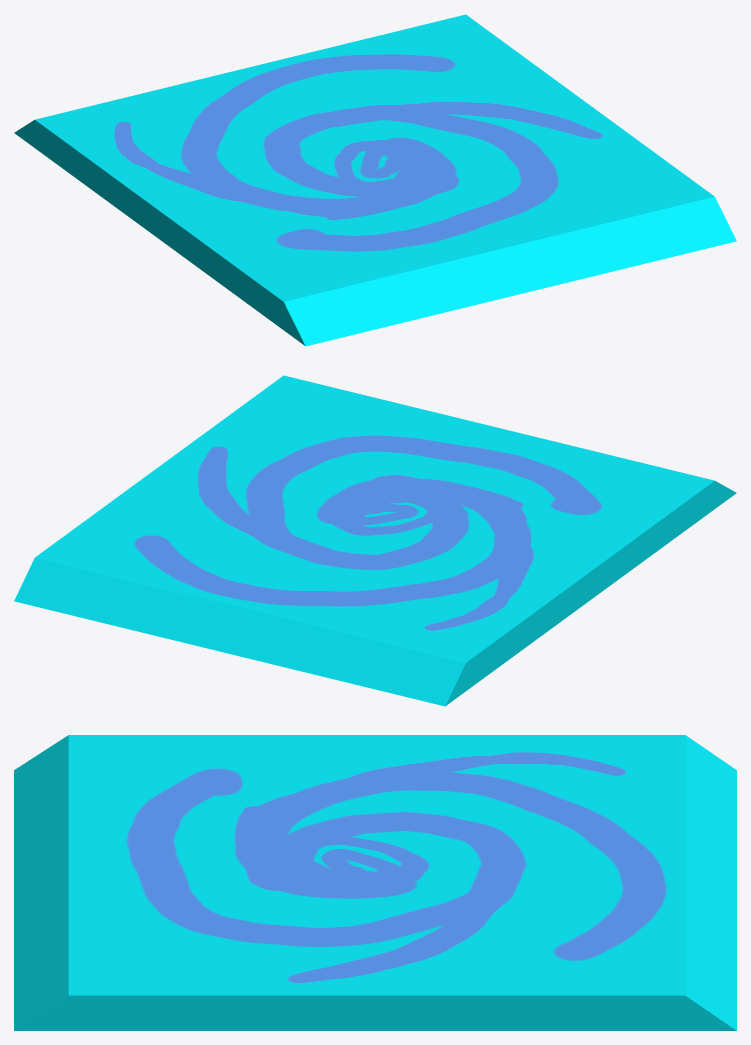
File: Spring.glb
3 views of the same model, one above another, from view 1: azimuth 30°, elevation 25°; view 2: azimuth 150°, elevation 25°; view 3: azimuth 270°, elevation 25° (orthographic). The views are drawn at different scales.
Parts seen in each view (by area): view 1: Cube; view 2: Cube; view 3: Cube.
Part boxes in pixels (x1,y1,x2,y2): Cube: (14,14,736,346); Cube: (14,375,736,706); Cube: (14,735,736,1030).
Size of the model in its own units: 4.36 by 0.2754 by 5.12.
Materials: 1 (1 with a texture image).
